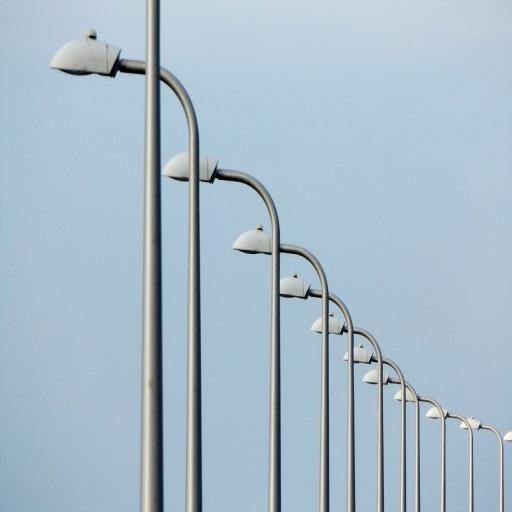off street light: (46, 26, 214, 403)
